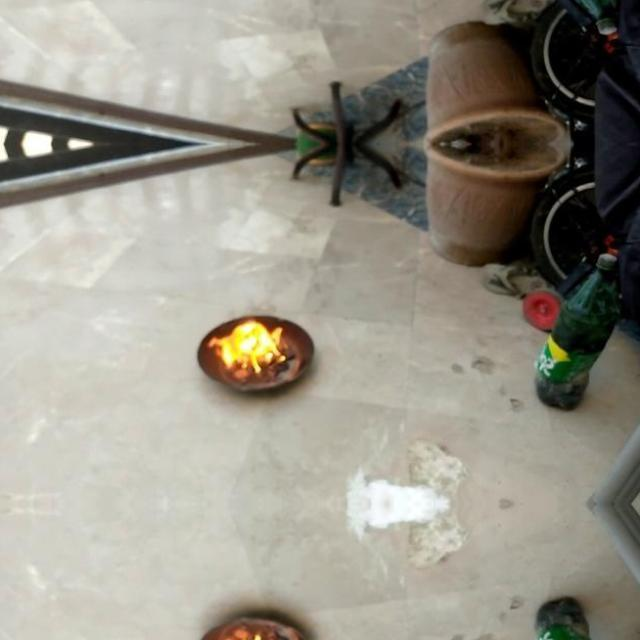smoke: (212, 316, 290, 375), (212, 633, 290, 640)
